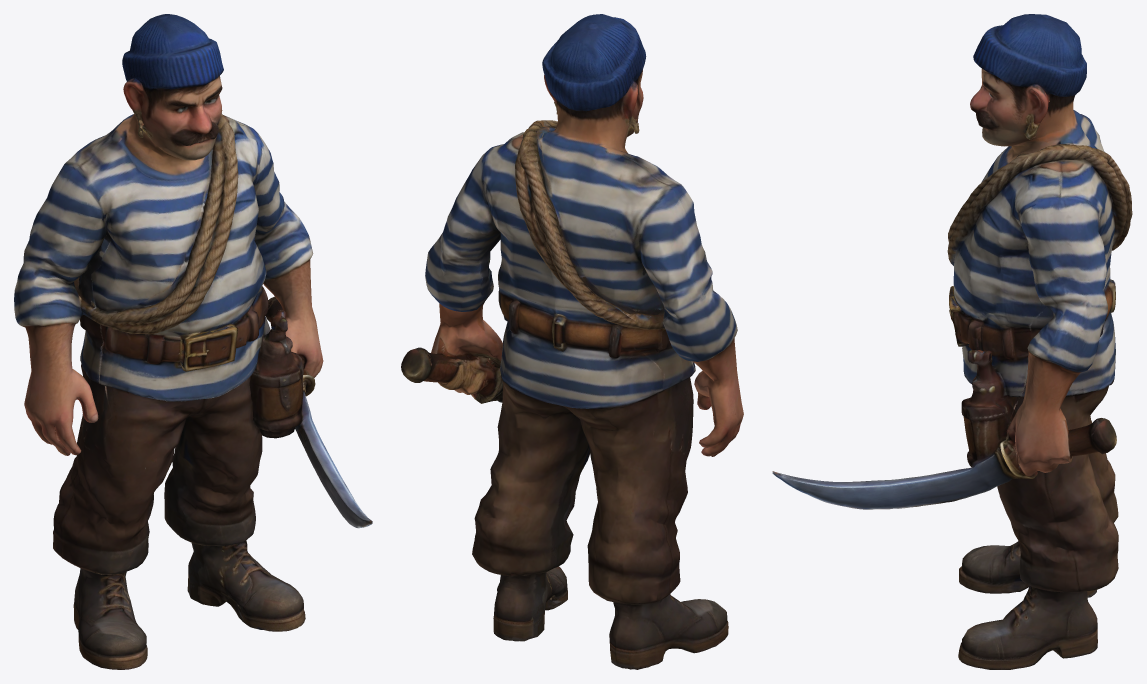
3 renders of one model, left to right at view 1: azimuth 30°, elevation 25°; view 2: azimuth 150°, elevation 25°; view 3: azimuth 270°, elevation 25°, orthographic.
Parts seen in each view (by area): view 1: Sailor; view 2: Sailor; view 3: Sailor.
Boxes of the visible parts, left/top/right/bottom form: Sailor: left=14, top=14, right=372, bottom=669; Sailor: left=401, top=14, right=743, bottom=669; Sailor: left=772, top=14, right=1132, bottom=669.
Size of the model in its own units: 1.04 by 2 by 1.08.
1 material, 1 textured.
